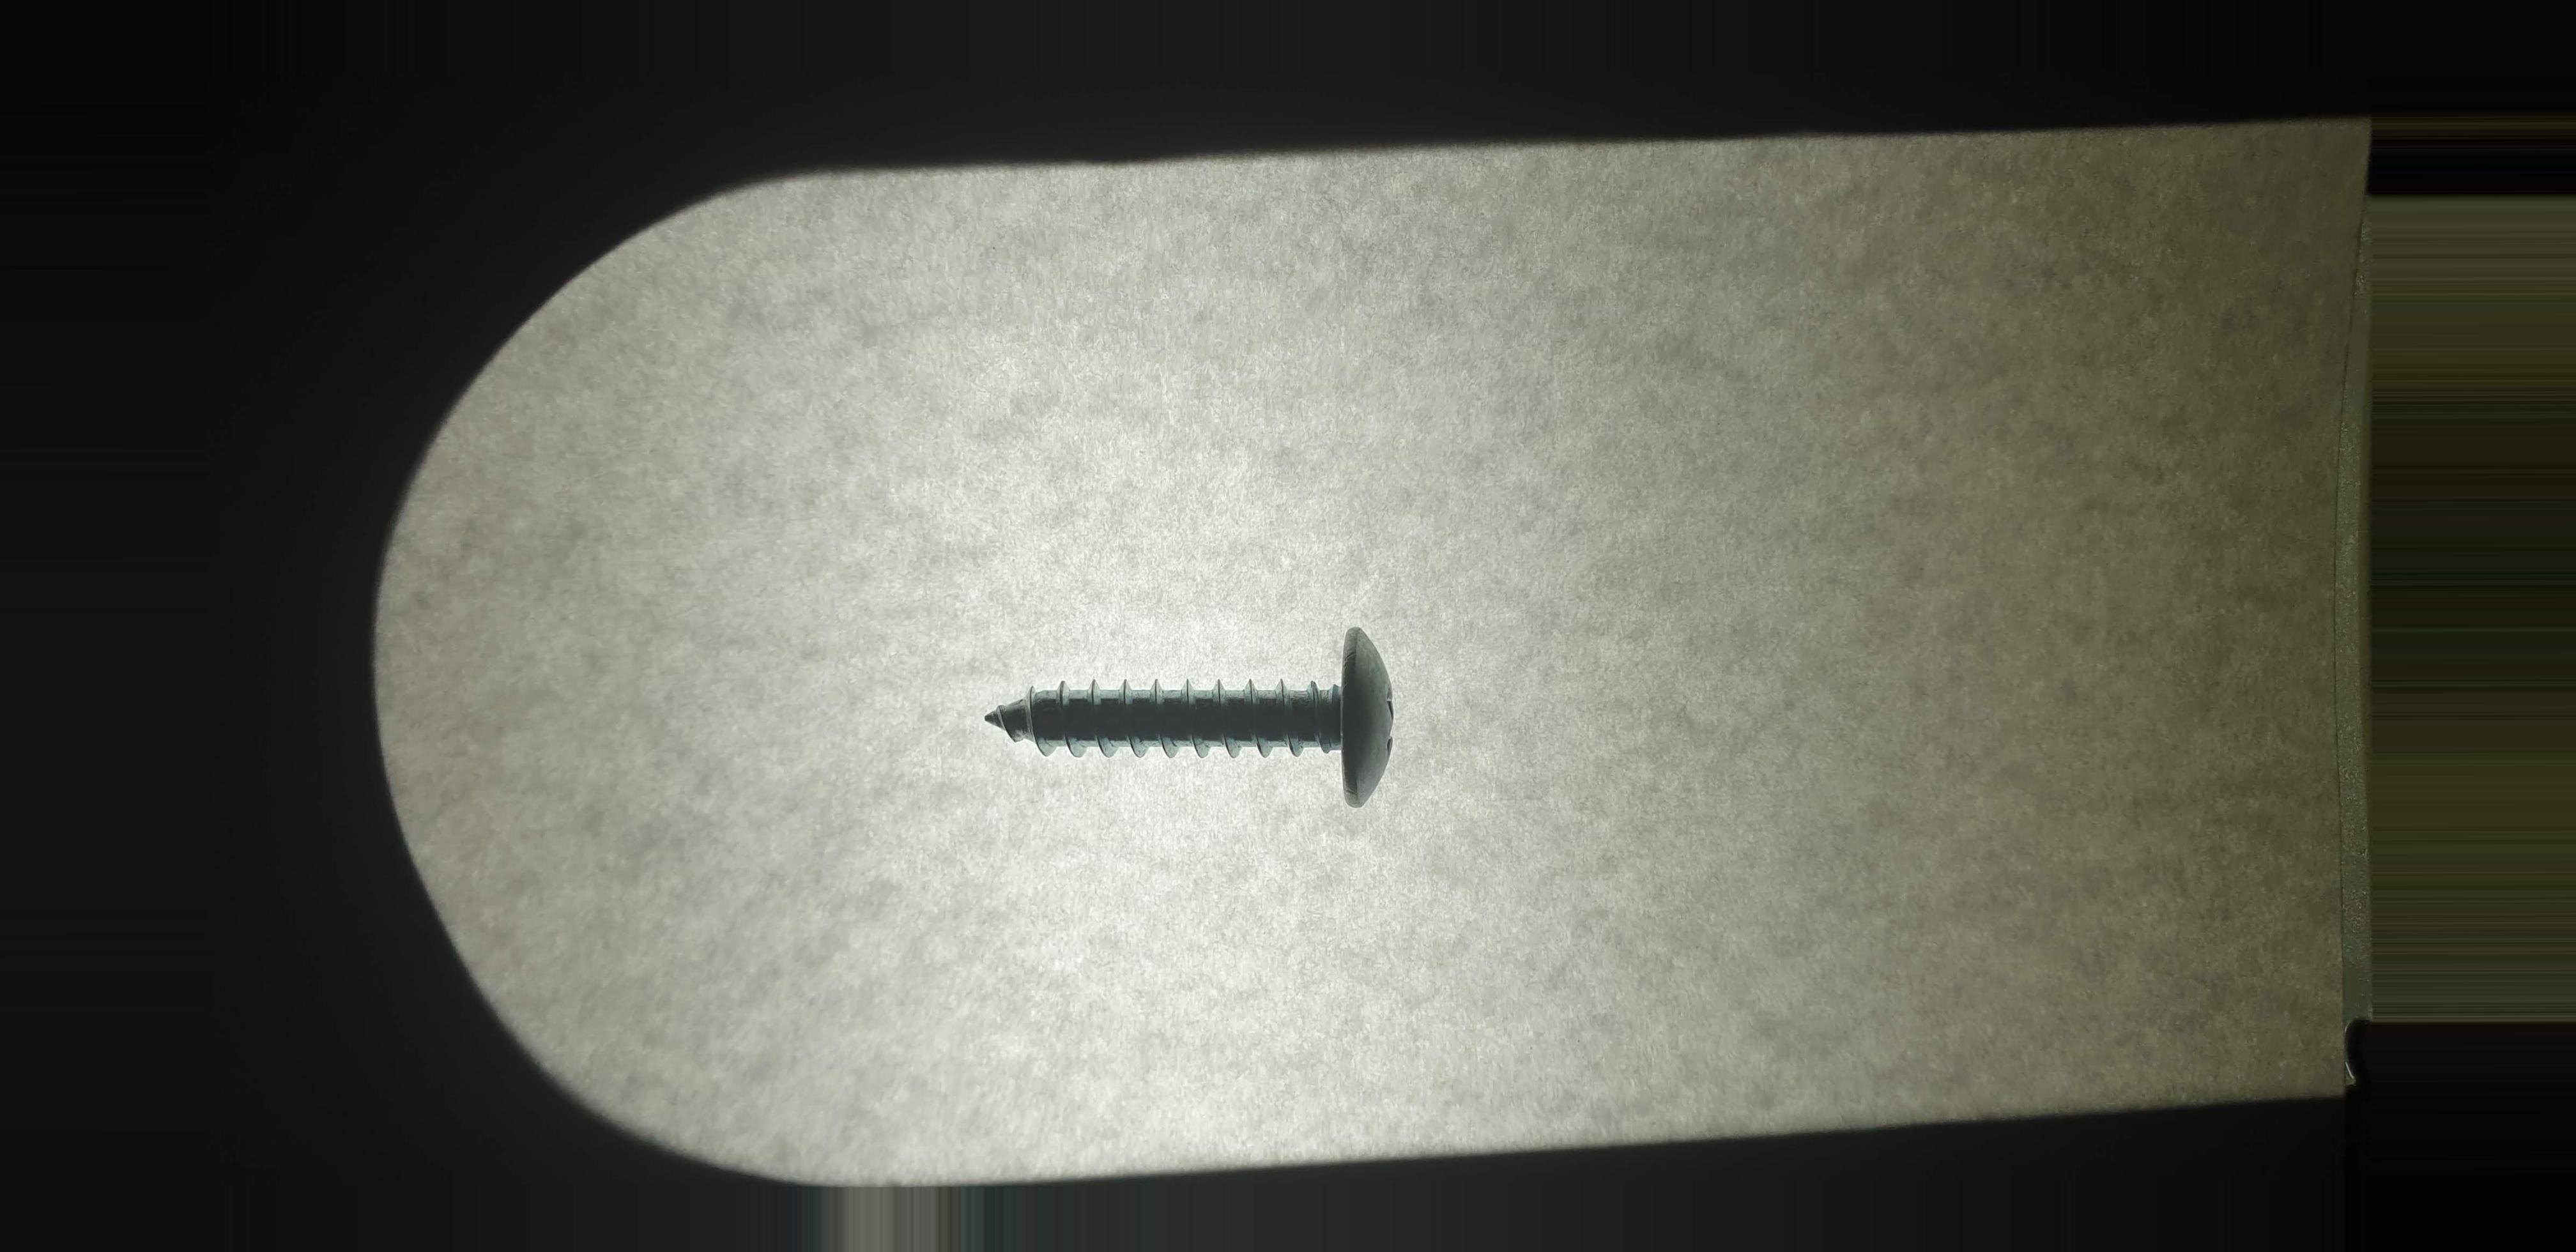S002: (936, 590, 1487, 858)
